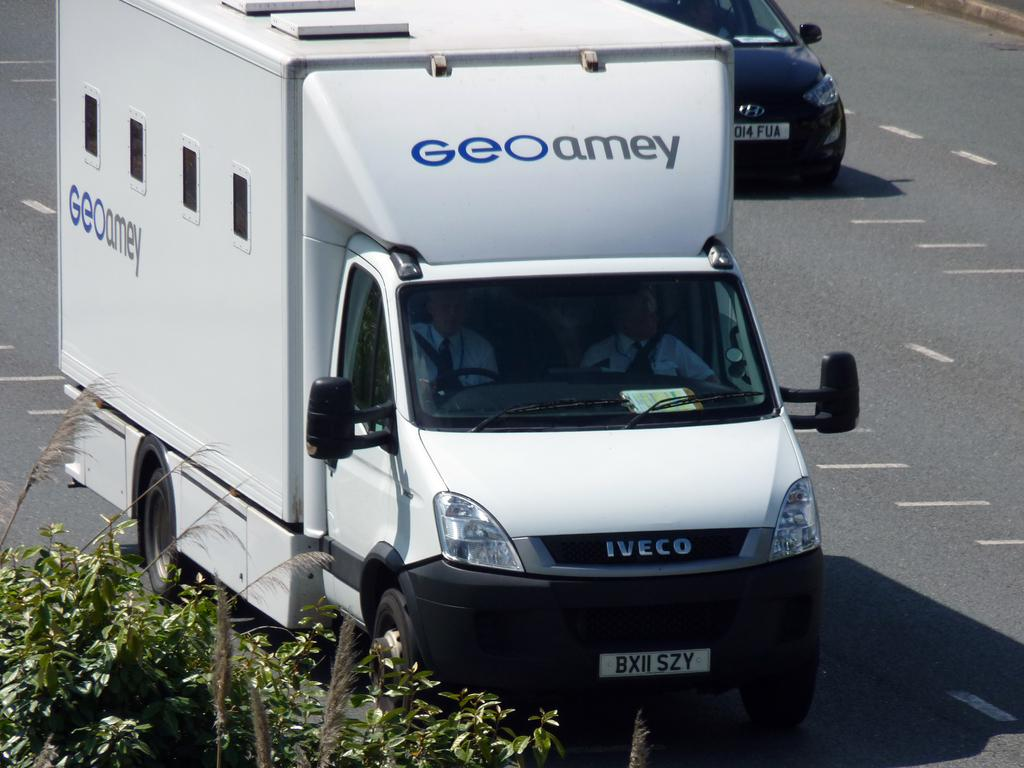vehicle: (56, 0, 859, 730), (627, 1, 847, 188)
